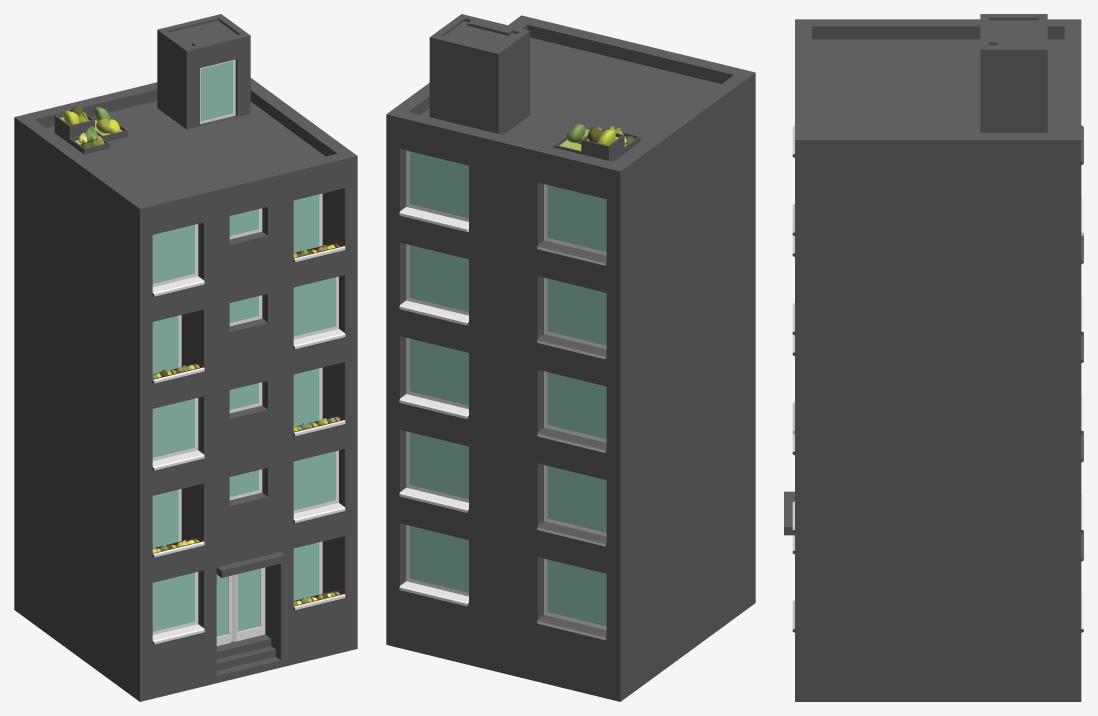
File: panel.gltf
3 renders of one model, left to right at view 1: azimuth 30°, elevation 25°; view 2: azimuth 150°, elevation 25°; view 3: azimuth 270°, elevation 25°, orthographic. The views are drawn at different scales.
Parts seen in each view (by area): view 1: Cube.001; view 2: Cube.001; view 3: Cube.001.
Part boxes in pixels (x1,y1,x2,y2): Cube.001: (14,14,357,701); Cube.001: (386,14,755,701); Cube.001: (784,14,1083,701).
Size of the model in its own units: 15.93 by 39.18 by 16.68.
Materials: 1 (1 with a texture image).
